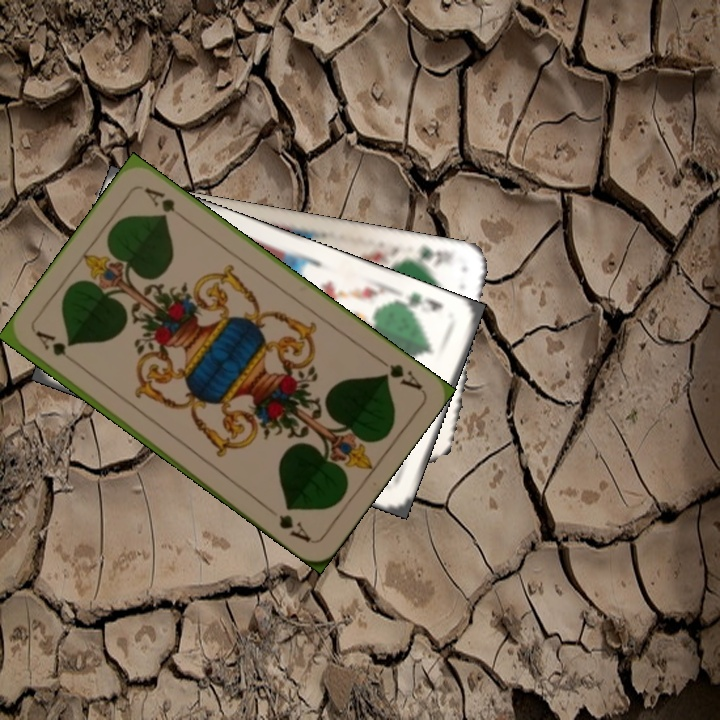GA: (31, 326, 82, 368), (373, 353, 425, 393)
GK: (402, 242, 454, 270), (396, 288, 445, 316)
